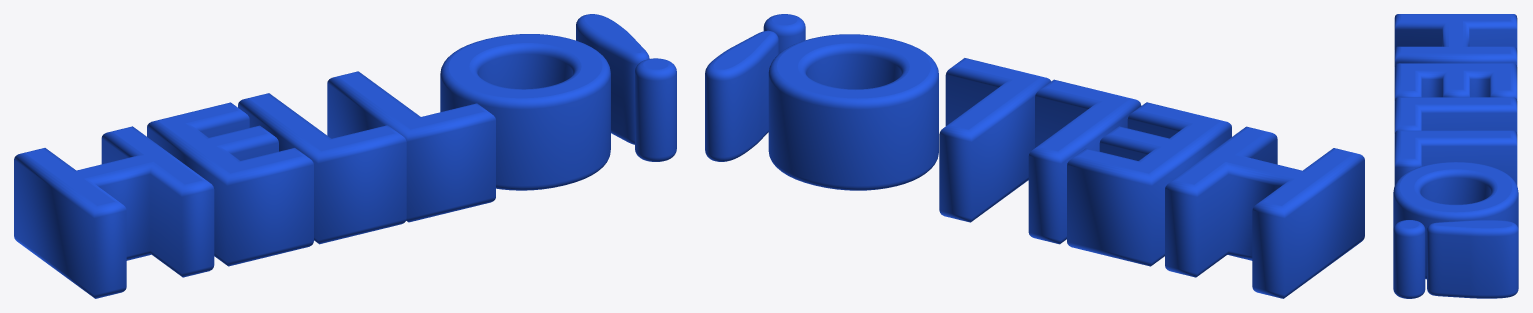
The picture shows the model from 3 angles, left to right: view 1: azimuth 30°, elevation 25°; view 2: azimuth 150°, elevation 25°; view 3: azimuth 270°, elevation 25°; orthographic projection. The views are drawn at different scales.
Visible parts, largest first — view 1: テキスト; view 2: テキスト; view 3: テキスト.
Boxes of the visible parts, x1=… form: テキスト: x1=14, y1=14, x2=676, y2=298; テキスト: x1=705, y1=14, x2=1364, y2=298; テキスト: x1=1393, y1=14, x2=1518, y2=298.
Size of the model in its own units: 3.23 by 0.48 by 0.7803.
